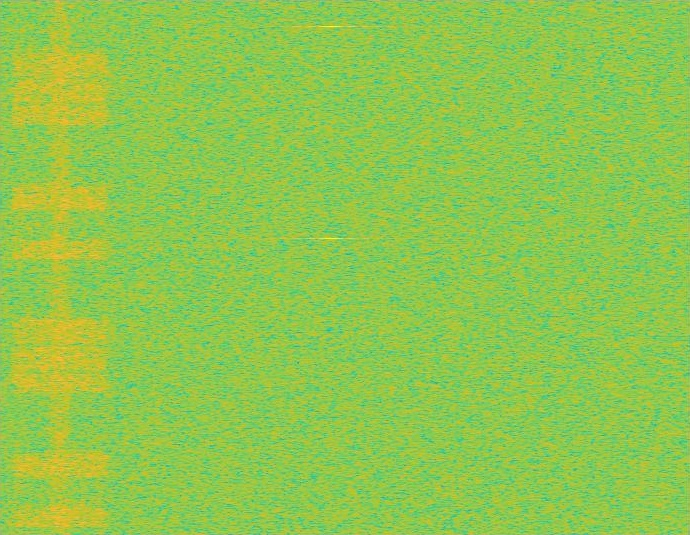DSSS: (49, 0, 72, 534)
LTE: (9, 0, 112, 534)
Radar: (324, 0, 338, 534)
